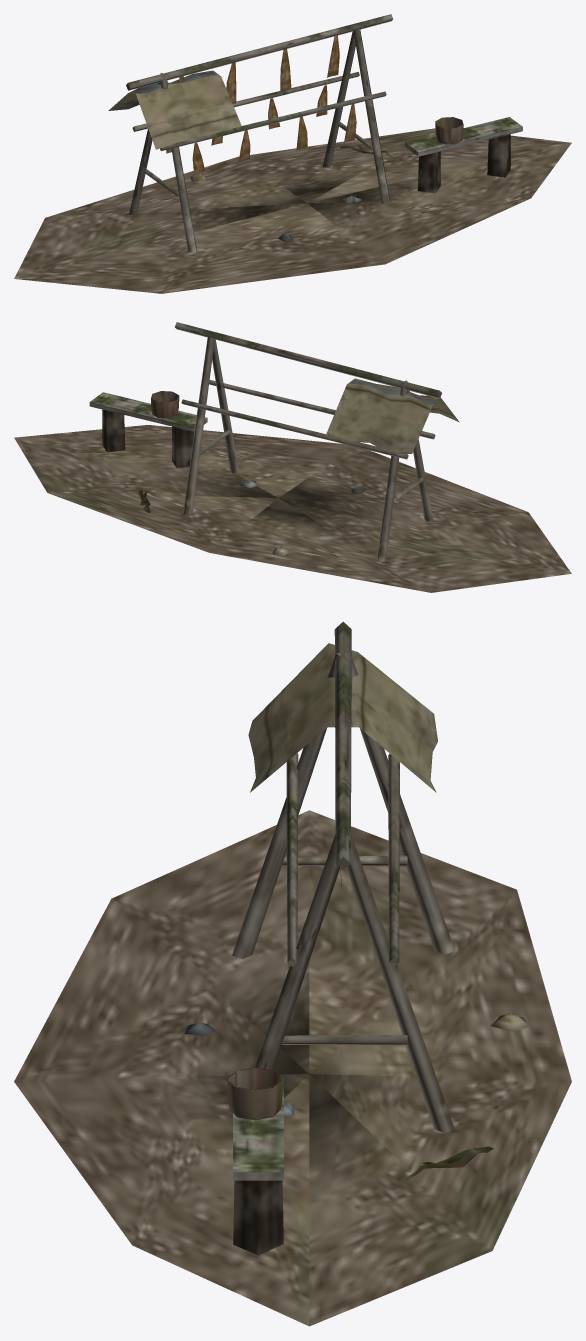
Rendered from kit_drying_rack_far.glb.
3 renders of one model, top to bottom at view 1: azimuth 30°, elevation 25°; view 2: azimuth 150°, elevation 25°; view 3: azimuth 270°, elevation 25°, orthographic. The views are drawn at different scales.
Visible parts, largest first — view 1: body, cover, plank_01, fish_03, fish_04; view 2: body, cover, plank_01; view 3: body, cover, plank_01.
Boxes of the visible parts, box(x1,y1,x2,y2) form: body: box(14, 14, 571, 293); cover: box(108, 70, 241, 149); plank_01: box(405, 117, 522, 156); fish_03: box(280, 48, 291, 91); fish_04: box(327, 35, 339, 77); body: box(14, 322, 571, 592); cover: box(326, 378, 459, 453); plank_01: box(89, 392, 207, 431); body: box(14, 621, 571, 1326); cover: box(248, 643, 437, 792); plank_01: box(233, 1075, 283, 1180).
Size of what is drawn, in the model's own units: 7.21 by 2.09 by 3.29.
2 materials, 2 textured.
